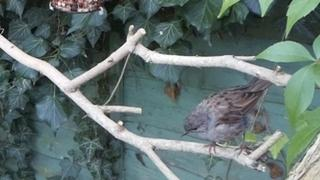dunnock: (180, 76, 272, 158)
